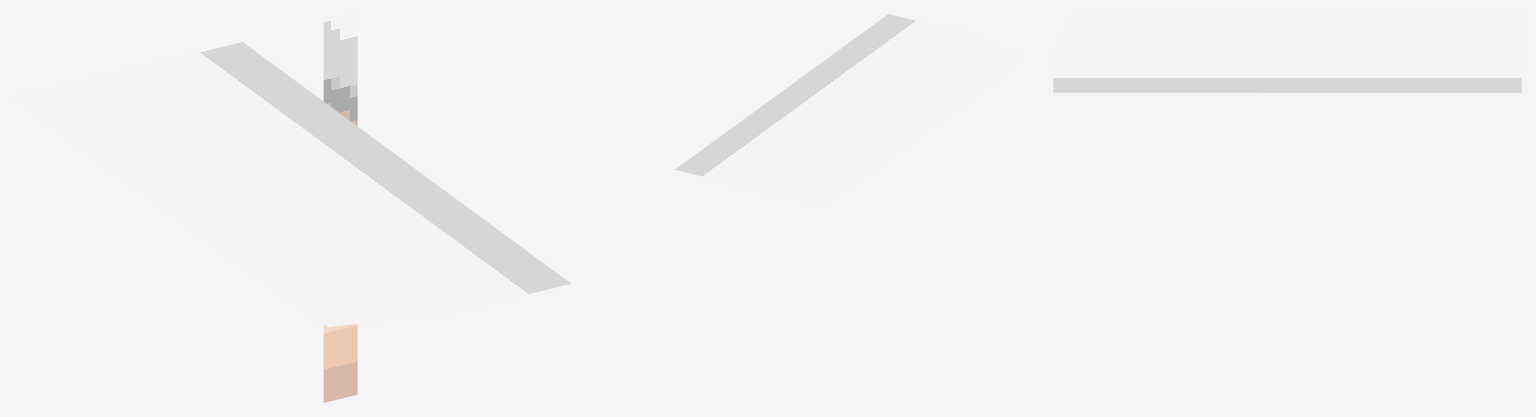
3 renders of one model, left to right at view 1: azimuth 30°, elevation 25°; view 2: azimuth 150°, elevation 25°; view 3: azimuth 270°, elevation 25°, orthographic. The views are drawn at different scales.
Size of the model in its own units: 1.5 by 1.59 by 2.5.
Materials: 1 (1 with a texture image).
